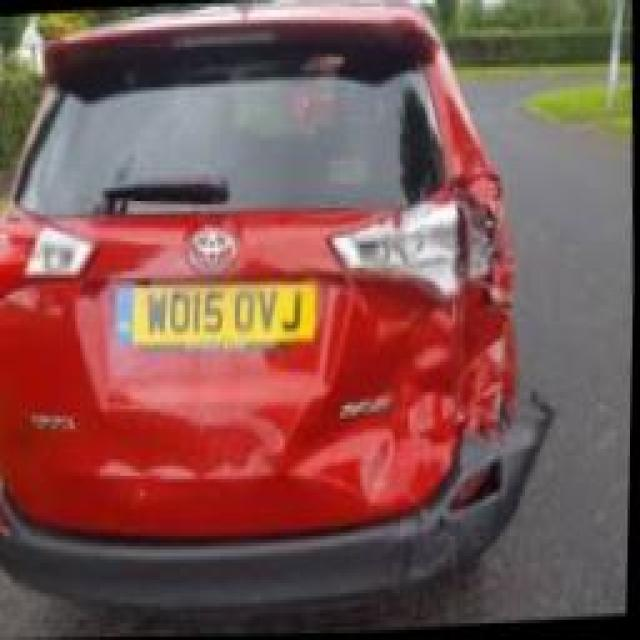Bumper: (270, 292, 562, 599)
Dickey: (0, 212, 469, 531)
Light: (324, 174, 530, 299)
